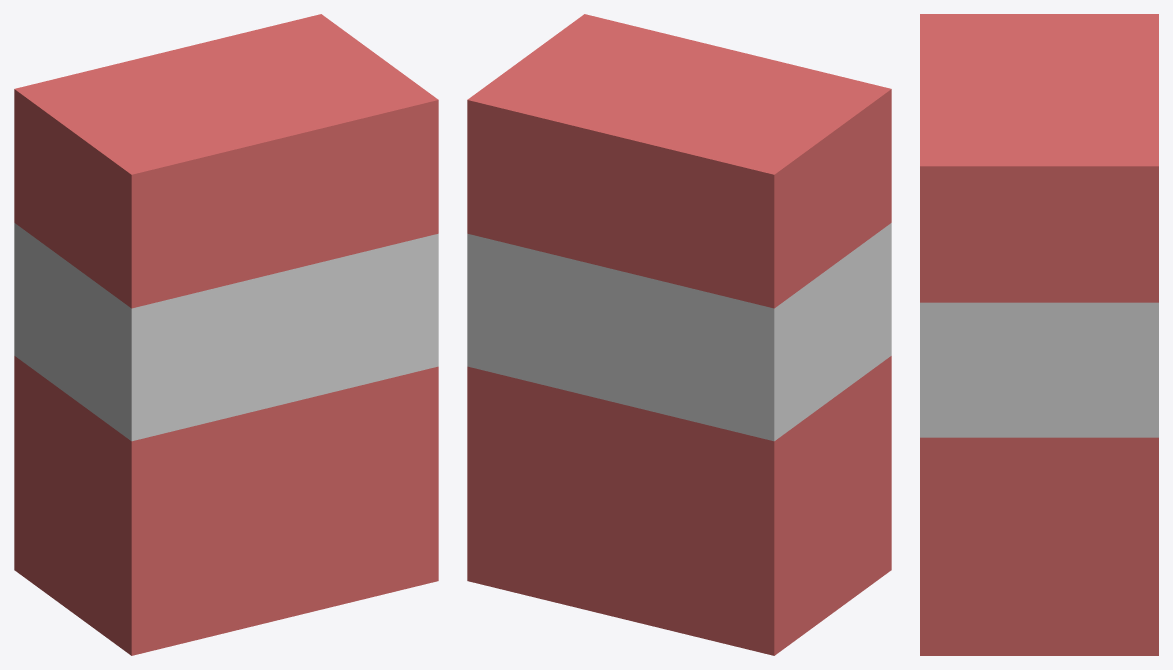
Rendered from cereal.fbx.
The picture shows the model from 3 angles, left to right: view 1: azimuth 30°, elevation 25°; view 2: azimuth 150°, elevation 25°; view 3: azimuth 270°, elevation 25°; orthographic projection.
Visible parts, largest first — view 1: Cube; view 2: Cube; view 3: Cube.
Part boxes in pixels (box(x1,y1,x2,y2)): Cube: box(14, 14, 438, 655); Cube: box(467, 14, 891, 655); Cube: box(920, 14, 1158, 655).
Bounding box in the file's own units: 335 × 502 × 222.
